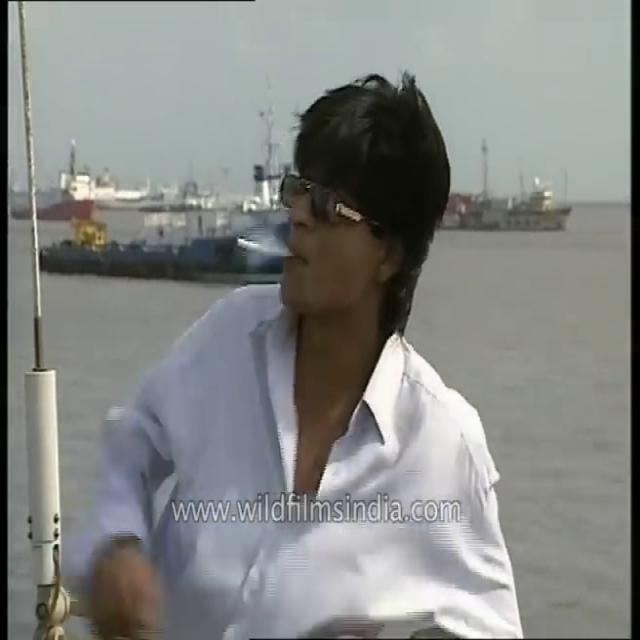Smooking: (228, 233, 296, 266)
